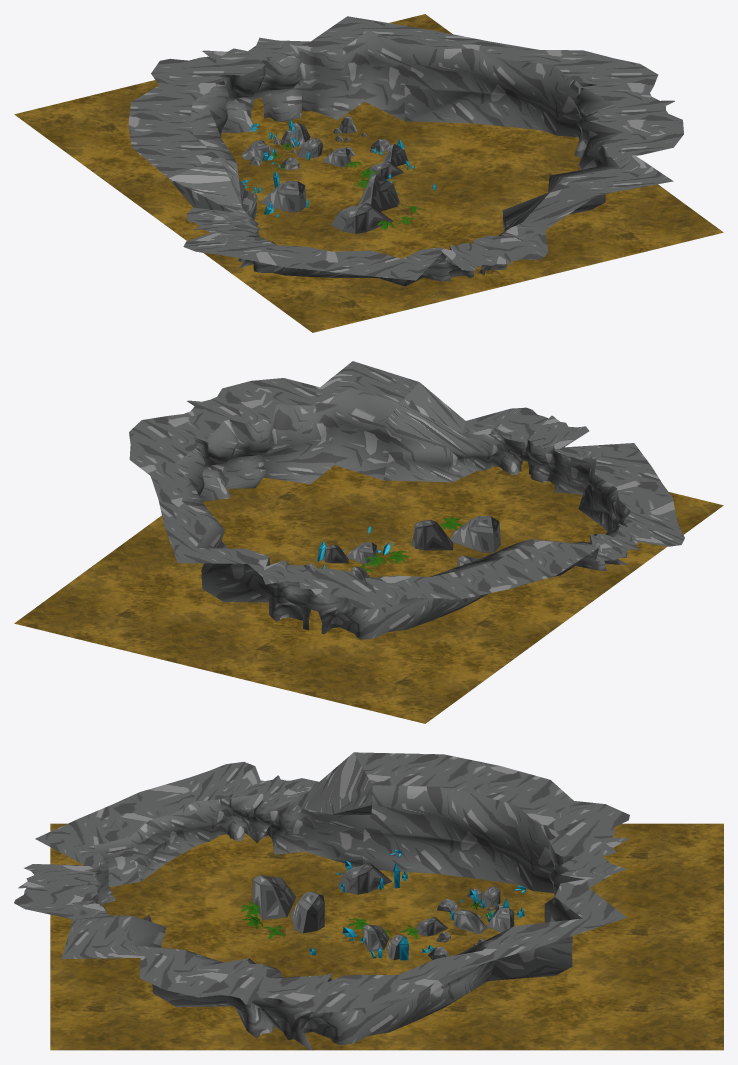
Rendered from zone.FBX.
3 renders of one model, top to bottom at view 1: azimuth 30°, elevation 25°; view 2: azimuth 150°, elevation 25°; view 3: azimuth 270°, elevation 25°, orthographic. The views are drawn at different scales.
Parts seen in each view (by area): view 1: rocher petit004; view 2: rocher petit004; view 3: rocher petit004.
Boxes of the visible parts, x1,y1,x2,y2 form: rocher petit004: [14, 14, 723, 332]; rocher petit004: [14, 361, 723, 723]; rocher petit004: [14, 752, 723, 1050].
Size of the model in its own units: 822 by 103 by 883.
